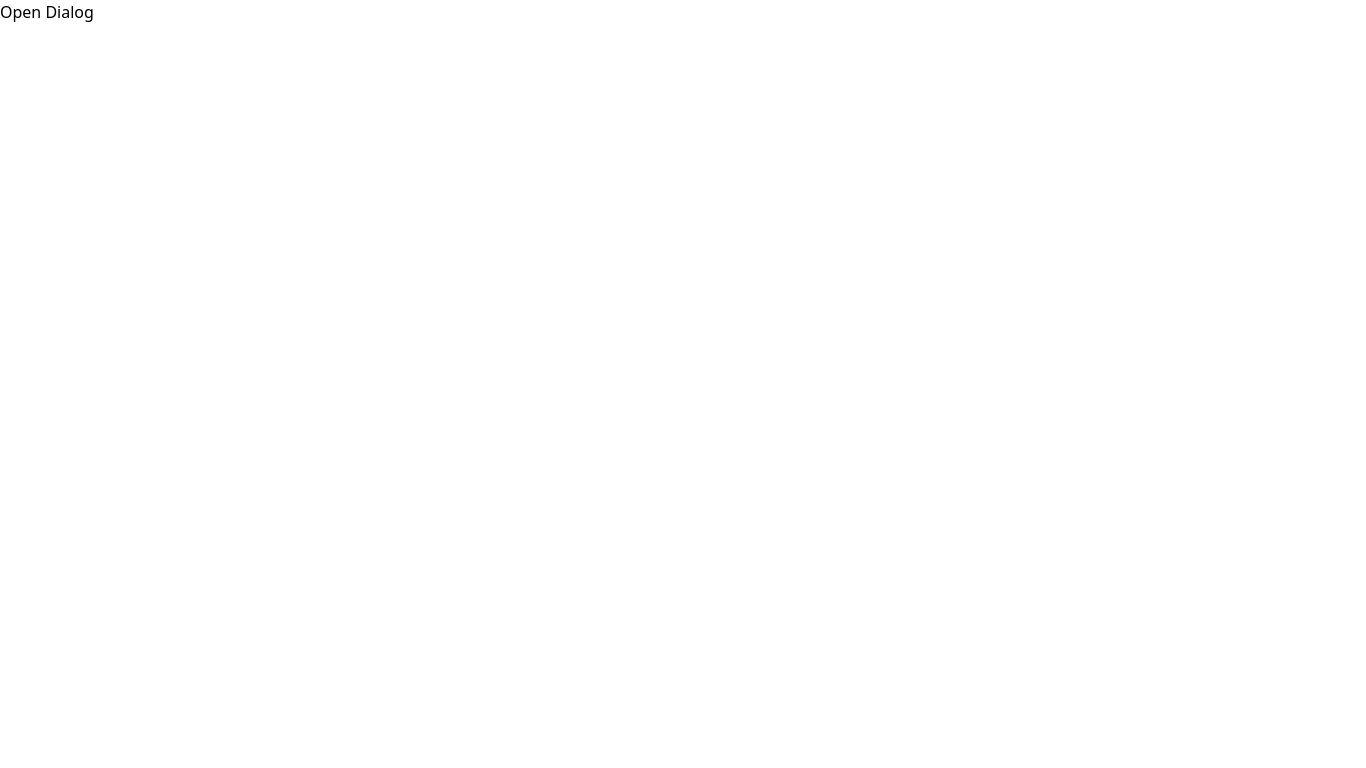
Test: Dialog › should open dialog when trigger is clicked
Click the button "Open Dialog".
click(47, 12)  # box [0, 0, 94, 24]
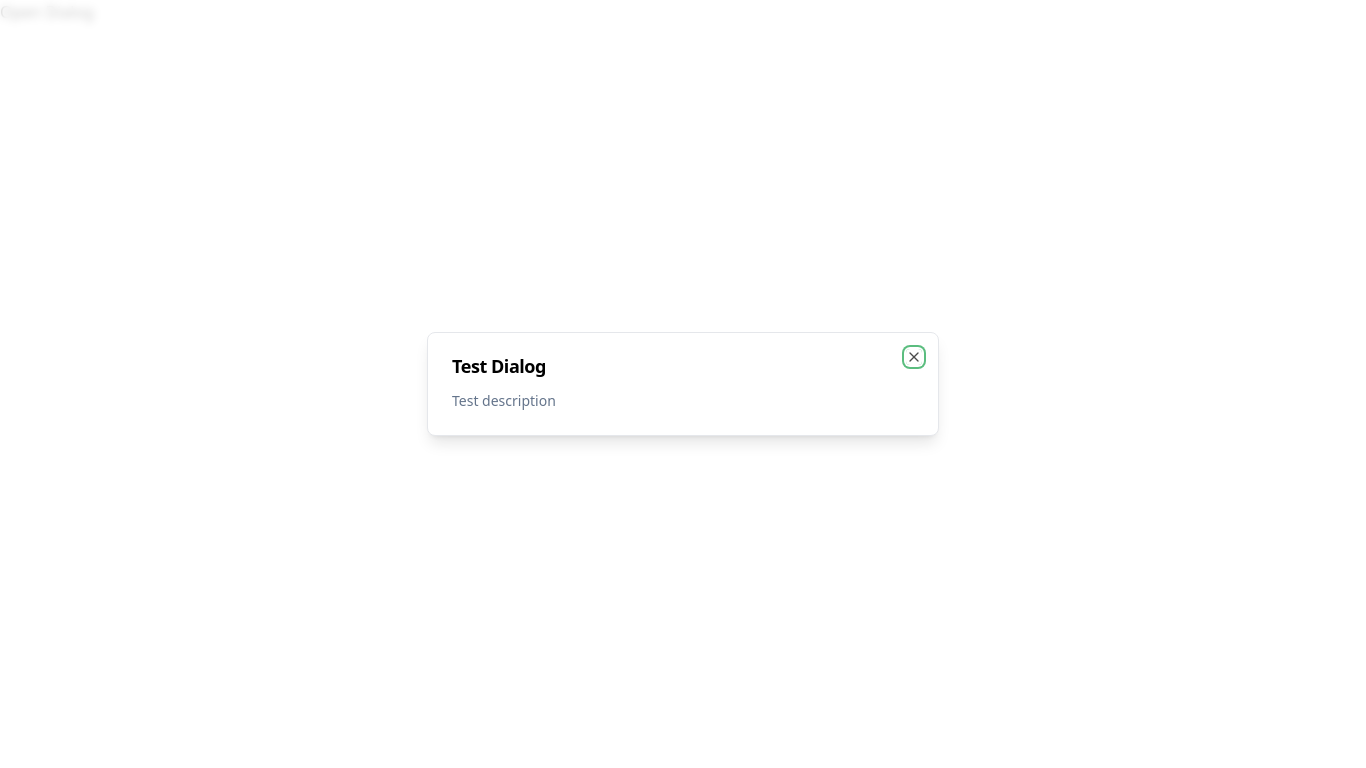
Expected: the heading "Test Dialog" is shown, [452, 354, 546, 378]
Expected: the text "Test description" is shown, [452, 391, 556, 410]
